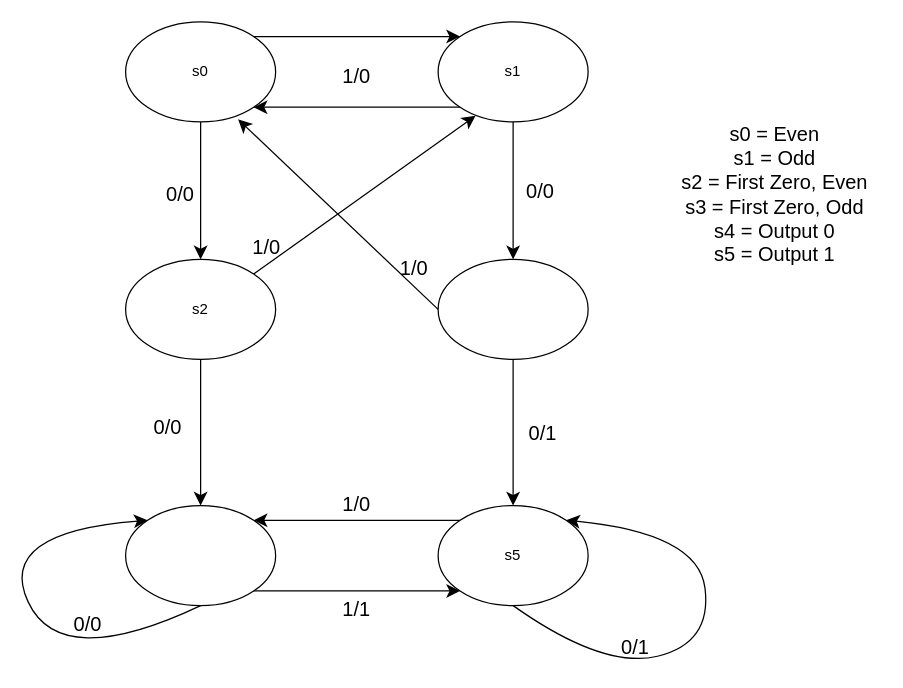
The diagram is 903 pixels wide and 688 high, and some of its shapes have lost their labels. Each missing label, with the box of its shape:
s3: (437, 258, 588, 359)
s4: (124, 504, 276, 606)
